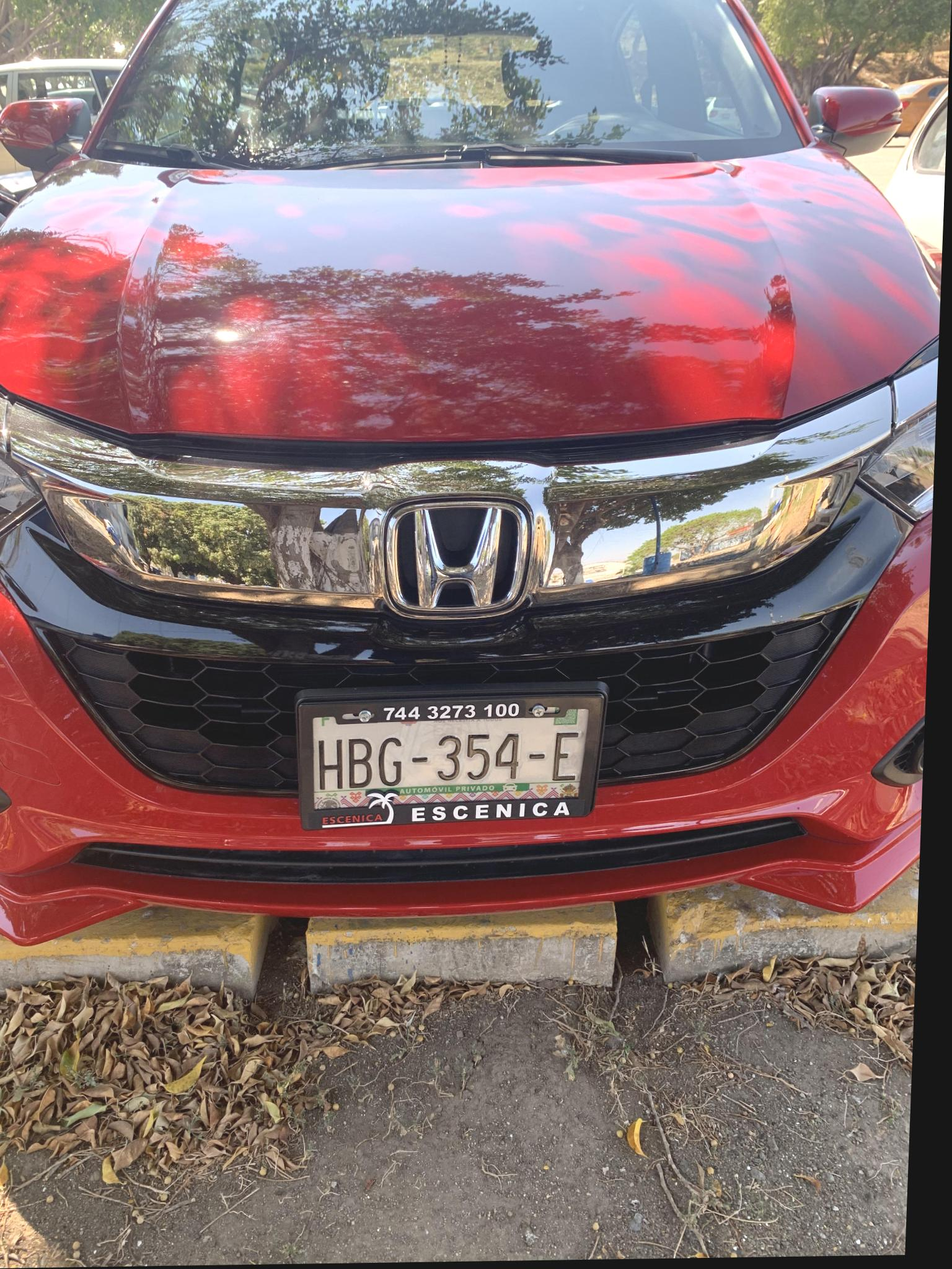License_Plate: (276, 680, 617, 842)
